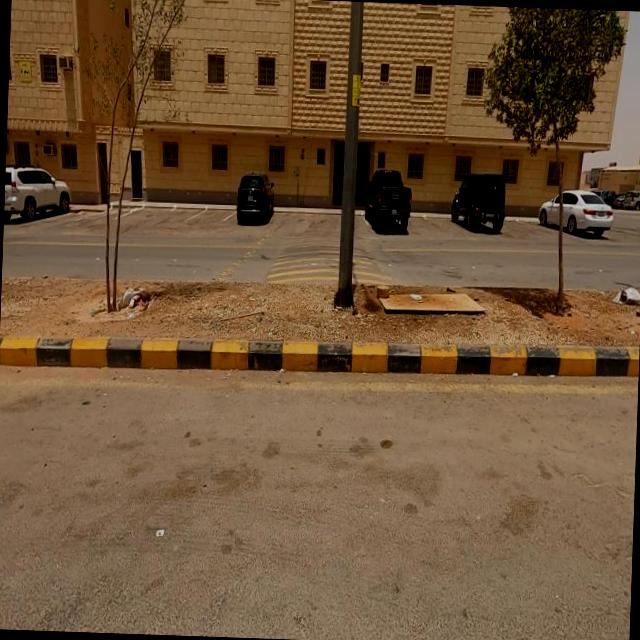debris: (314, 232, 531, 366), (89, 232, 192, 368), (590, 244, 640, 343)
